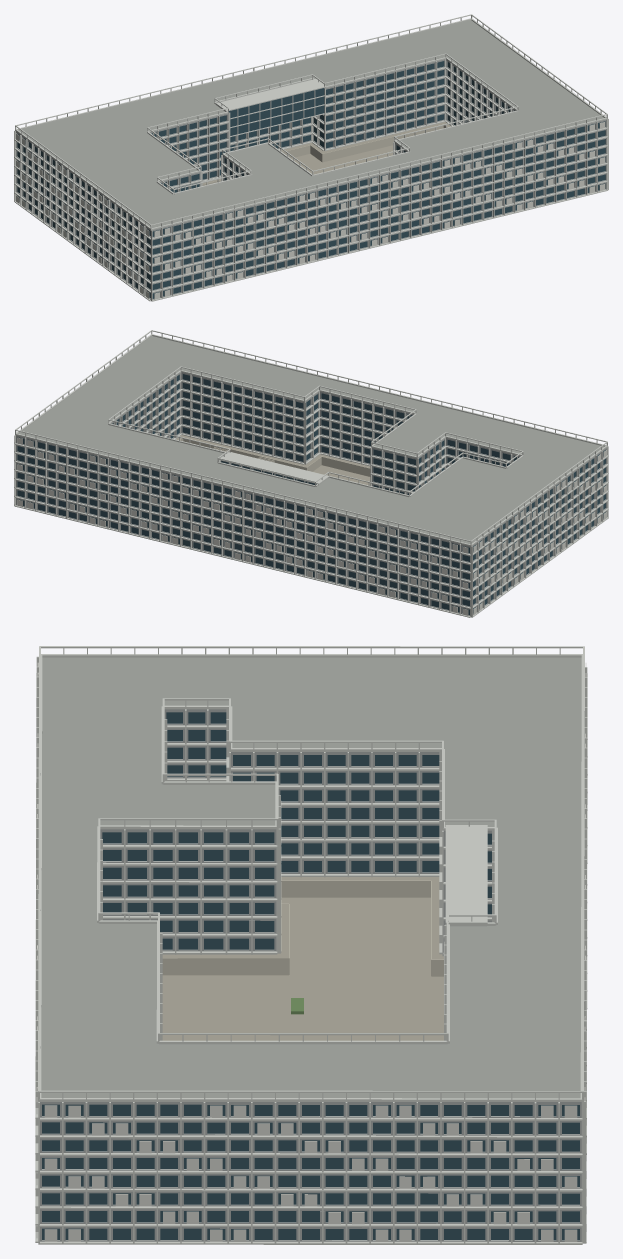
File: info.far.glb
3 renders of one model, top to bottom at view 1: azimuth 30°, elevation 25°; view 2: azimuth 150°, elevation 25°; view 3: azimuth 270°, elevation 25°, orthographic. The views are drawn at different scales.
Parts seen in each view (by area): view 1: trim, roof, glass, wall, screen, paving, stone; view 2: trim, roof, glass, wall, screen, stone, paving; view 3: roof, trim, glass, wall, paving, screen, stone.
Boxes of the visible parts, left/top/right/bottom form: trim: left=14, top=14, right=608, bottom=301; roof: left=19, top=20, right=603, bottom=227; glass: left=17, top=61, right=605, bottom=298; wall: left=16, top=59, right=606, bottom=299; screen: left=16, top=122, right=605, bottom=299; paving: left=202, top=122, right=450, bottom=184; stone: left=202, top=125, right=447, bottom=185; trim: left=14, top=330, right=608, bottom=617; roof: left=18, top=336, right=603, bottom=544; glass: left=17, top=374, right=605, bottom=615; wall: left=16, top=372, right=606, bottom=615; screen: left=17, top=437, right=606, bottom=615; stone: left=180, top=438, right=370, bottom=476; paving: left=176, top=435, right=370, bottom=485; roof: left=41, top=657, right=581, bottom=1098; trim: left=35, top=646, right=587, bottom=1244; glass: left=42, top=712, right=579, bottom=1240; wall: left=40, top=709, right=581, bottom=1241; paving: left=162, top=877, right=443, bottom=1040; screen: left=36, top=662, right=586, bottom=1241; stone: left=162, top=880, right=443, bottom=976.
Size of the model in its own units: 167 by 26.4 by 86.9.
